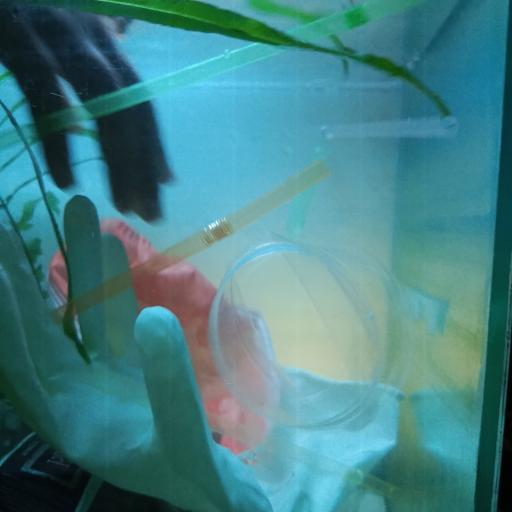glove: (0, 179, 406, 512)
mask: (48, 214, 276, 454)
plastic_bottle: (0, 401, 139, 512)
plastic_cup: (207, 233, 410, 430)
plastic_straw: (1, 0, 420, 154), (48, 160, 330, 324), (207, 411, 401, 500), (320, 114, 461, 142)
